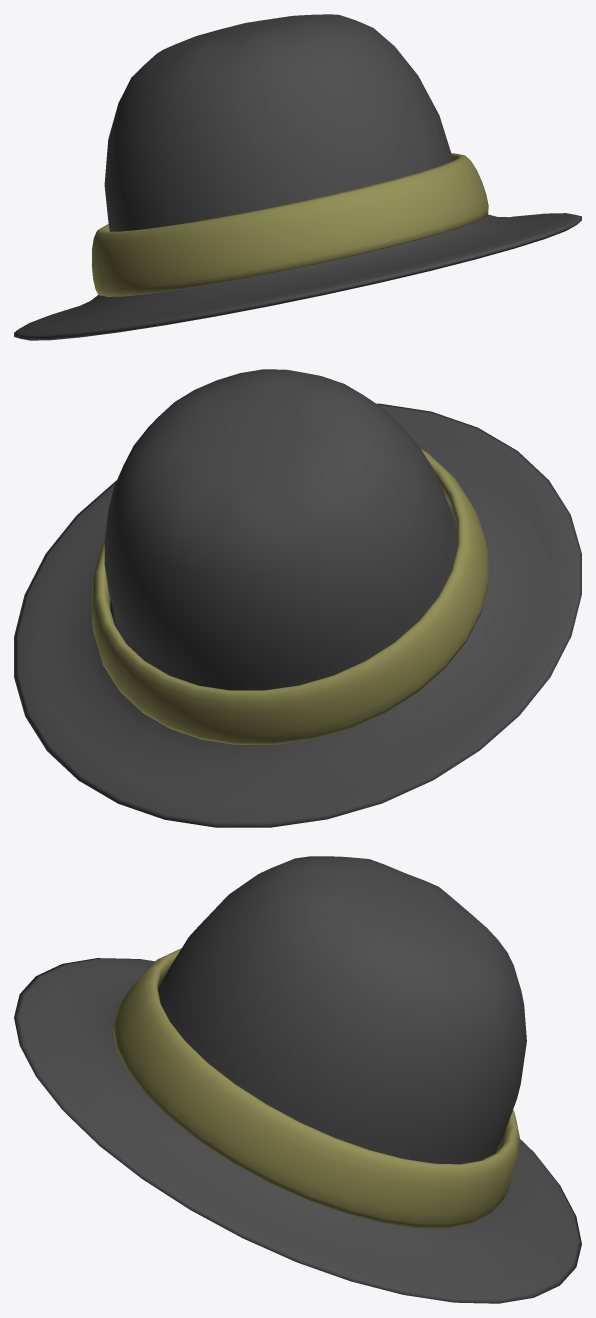
File: FarmerHat.fbx
3 views of the same model, one above another, from view 1: azimuth 30°, elevation 25°; view 2: azimuth 150°, elevation 25°; view 3: azimuth 270°, elevation 25° (orthographic). The views are drawn at different scales.
Visible parts, largest first — view 1: Cylinder.093; view 2: Cylinder.093; view 3: Cylinder.093.
Part boxes in pixels (x1,y1,x2,y2): Cylinder.093: (14,14,581,340); Cylinder.093: (14,369,581,827); Cylinder.093: (14,856,581,1303).
Bounding box in the file's own units: 293 × 268 × 191.
